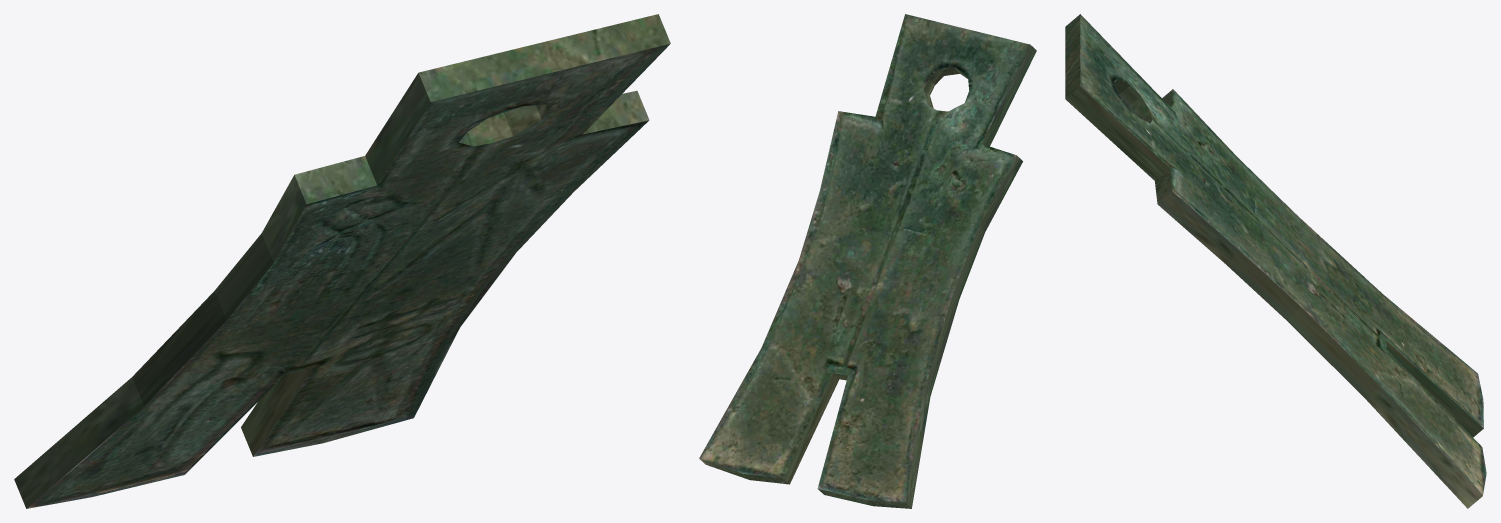
Rendered from bucoin.glb.
3 renders of one model, left to right at view 1: azimuth 30°, elevation 25°; view 2: azimuth 150°, elevation 25°; view 3: azimuth 270°, elevation 25°, orthographic. The views are drawn at different scales.
Parts seen in each view (by area): view 1: Line001; view 2: Line001; view 3: Line001.
Part boxes in pixels (bbox=[...]): Line001: bbox=[14, 14, 670, 508]; Line001: bbox=[699, 14, 1036, 508]; Line001: bbox=[1065, 14, 1486, 508].
Bounding box in the file's own units: 0.6346 × 1.02 × 0.958.
Materials: 1 (1 with a texture image).
